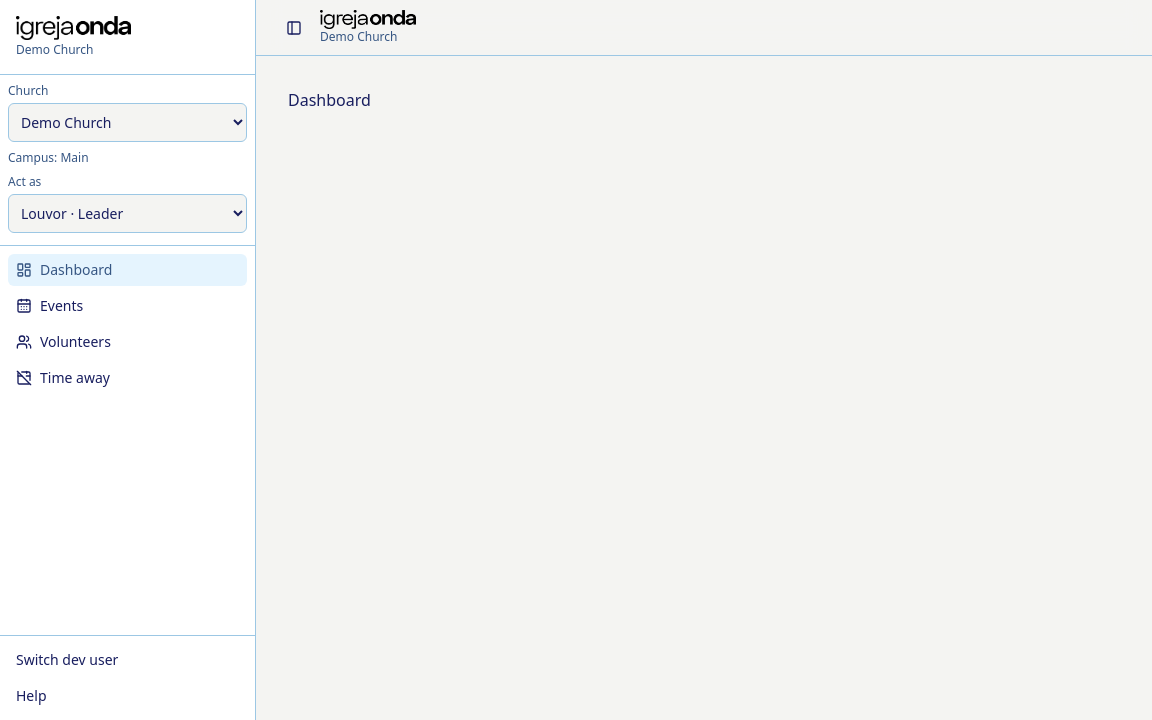
Test: AppShell › updates nav when working context switches to volunteer
expect the link "Events" is shown: met, box [16,296,83,315]
Select "Kids · Volunteer" in the dropdown labelled "Act as" at point(128, 214), box [8,194,247,233]
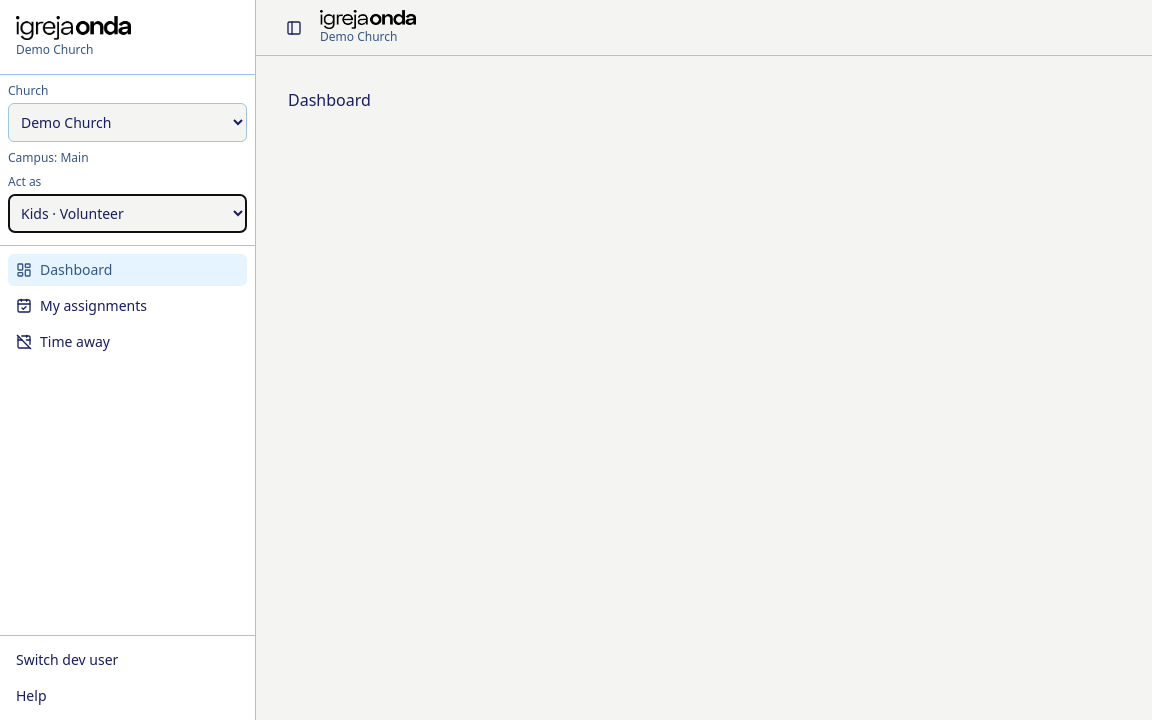
expect the link "My assignments" is shown: met, box [16,296,147,315]
expect the link "Events" is gone: met
